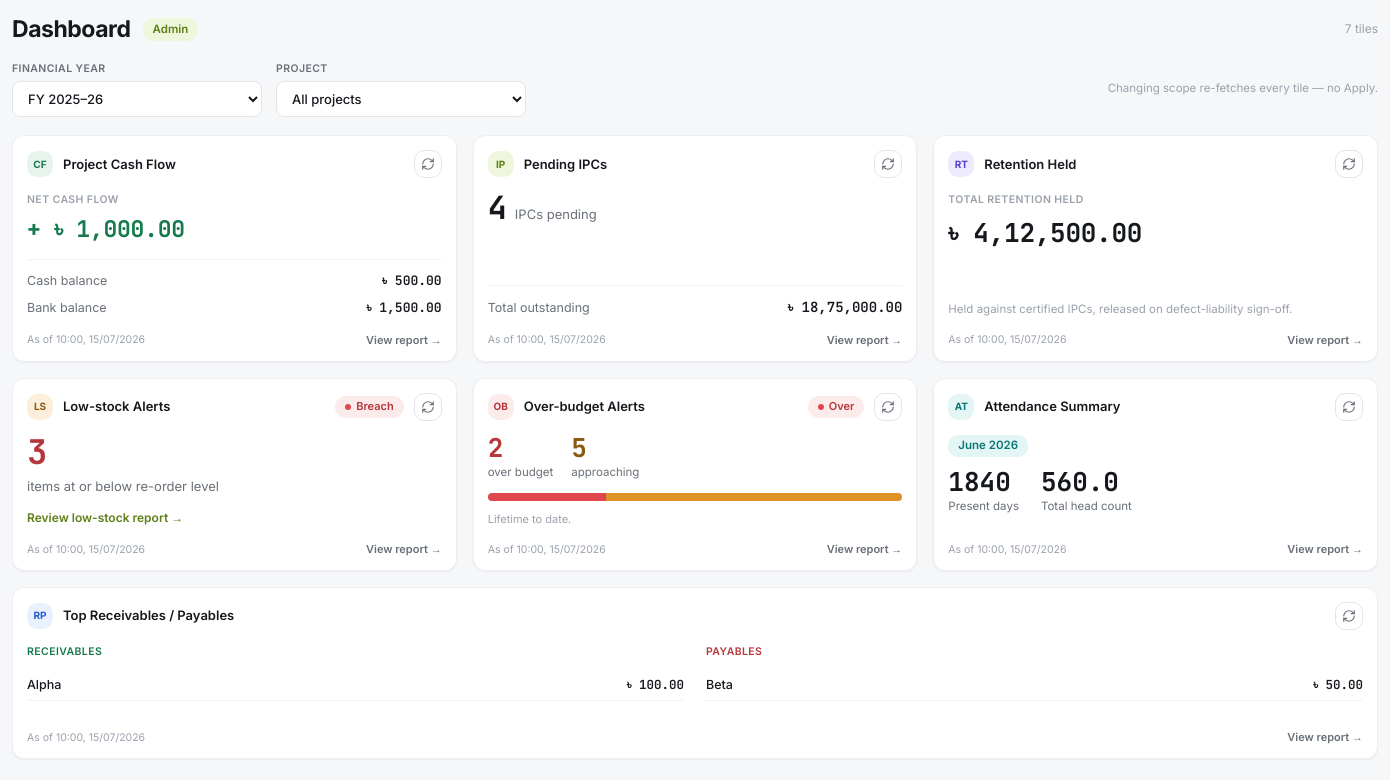
Test case: Scope violation — 403 on an unassigned project reverts (FR-DSH-009) › shows the scope-violation alert and keeps the selector re-picking
Select "TW-A · Tower-A — Gulshan" in the dropdown with test id "dash-project" at (401, 99), box [276,81,526,117]
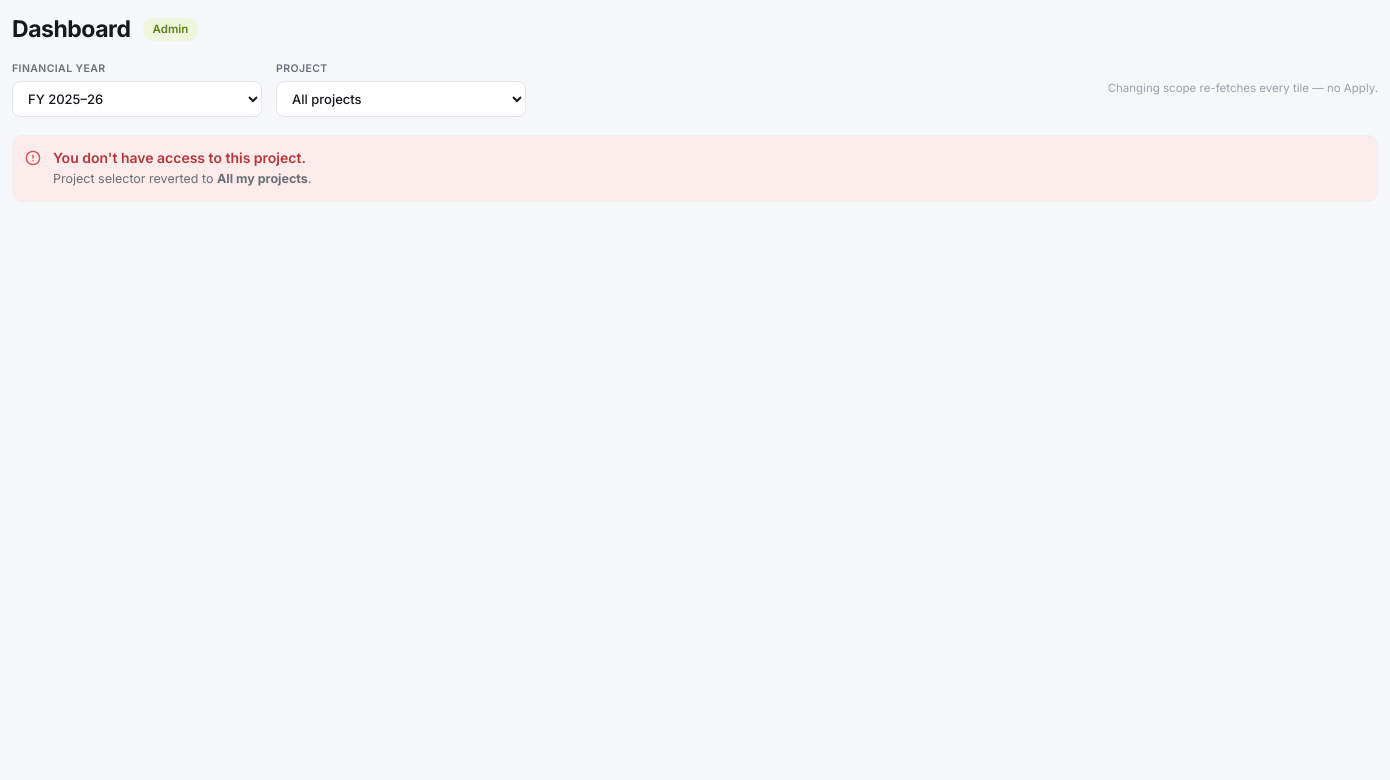
expect the message with test id "dashboard-scope-violation" is shown: met, box [12,135,1378,202]
